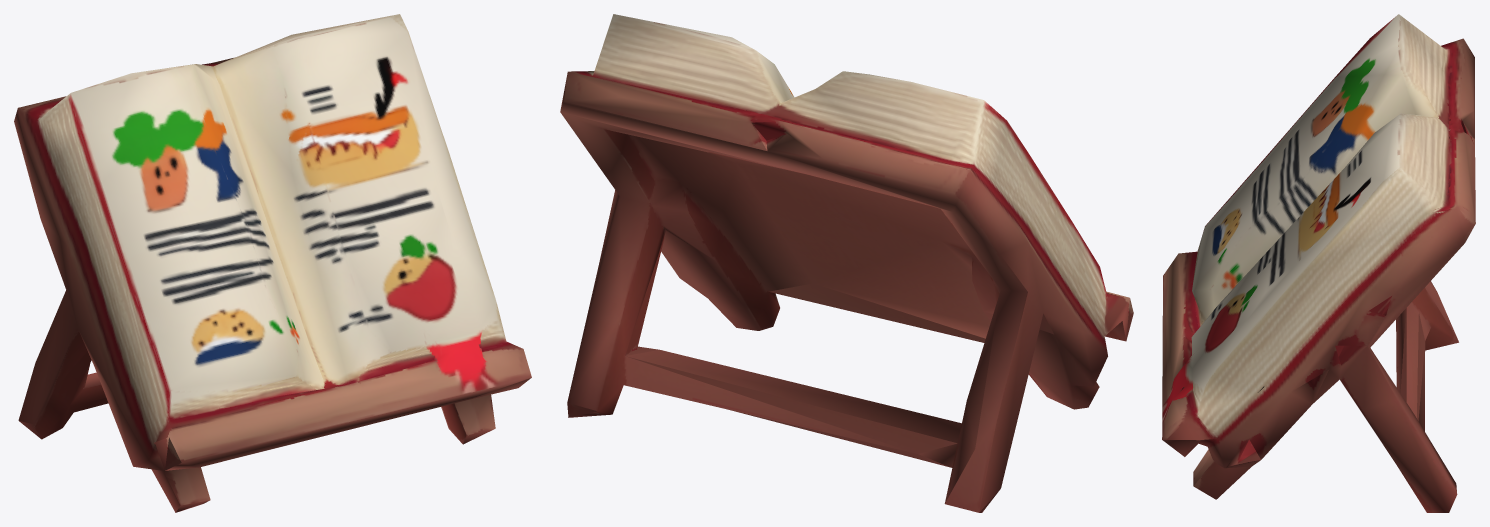
Rendered from supermarket-recipe-book.glb.
3 views of the same model, side by side, from view 1: azimuth 30°, elevation 25°; view 2: azimuth 150°, elevation 25°; view 3: azimuth 270°, elevation 25° (orthographic). The views are drawn at different scales.
Visible parts, largest first — view 1: geometry_0.001; view 2: geometry_0.001; view 3: geometry_0.001.
Boxes of the visible parts, box(x1,y1,x2,y2) form: geometry_0.001: box(14, 14, 531, 512); geometry_0.001: box(560, 14, 1133, 512); geometry_0.001: box(1162, 14, 1475, 512).
Bounding box in the file's own units: 0.9987 × 0.915 × 0.7562.
1 material, 1 textured.
